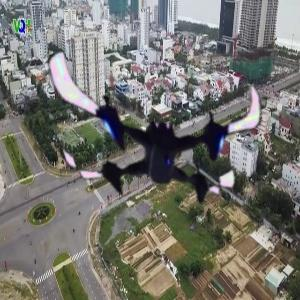drone: (56, 25, 272, 241)
